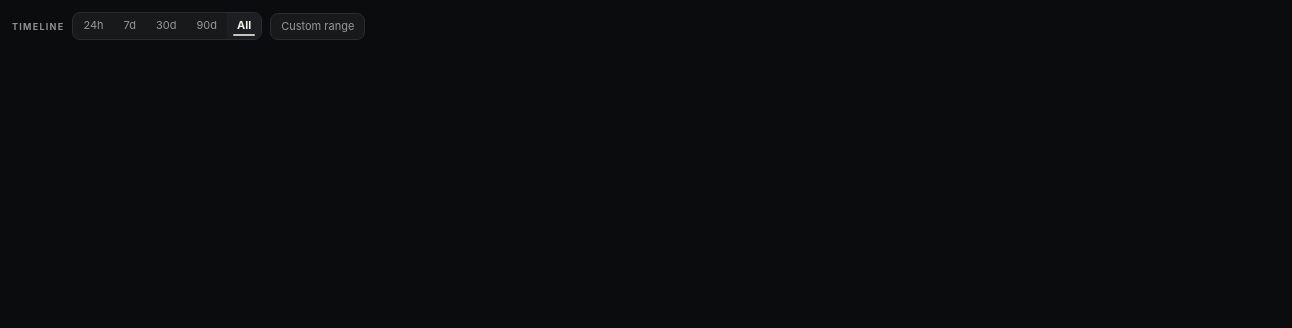
Test: the topbar control › refuses an inverted range with a reason instead of correcting it
This screenshot has width=1292, height=328.
Click the radio button labelled "7d": (130, 26) x1=114 y1=13 x2=146 y2=39
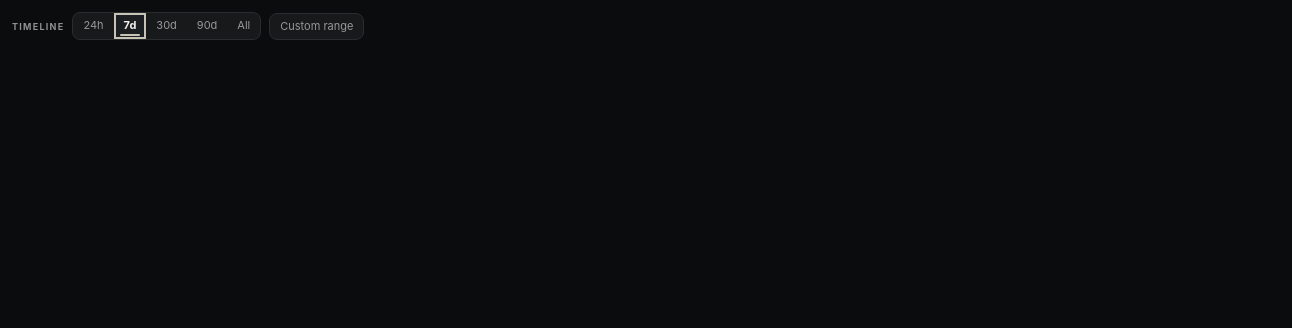
Click the button "Custom range": (317, 26) x1=269 y1=12 x2=364 y2=40
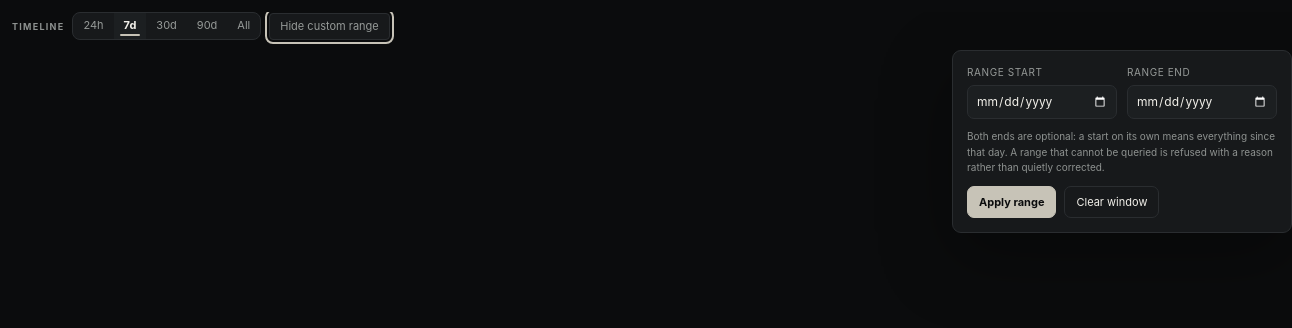
In the date field labelled "Range start": (1042, 102) x1=967 y1=85 x2=1117 y2=119, type "2026-03-19"
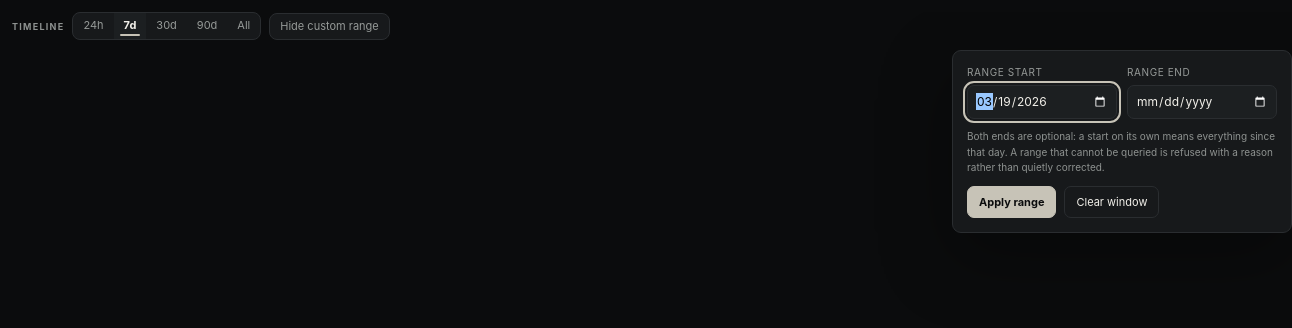
In the date field labelled "Range end": (1202, 102) x1=1127 y1=85 x2=1277 y2=119, type "2026-03-12"
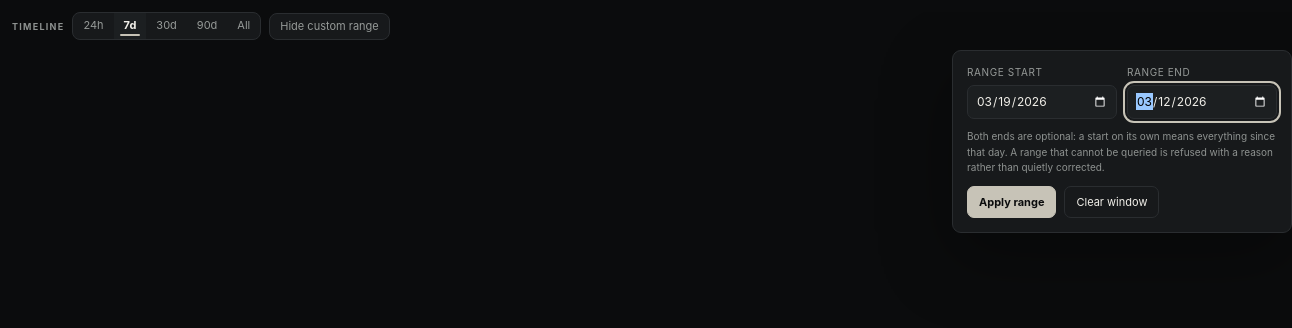
Click the button "Apply range": (1012, 202) x1=967 y1=186 x2=1056 y2=218
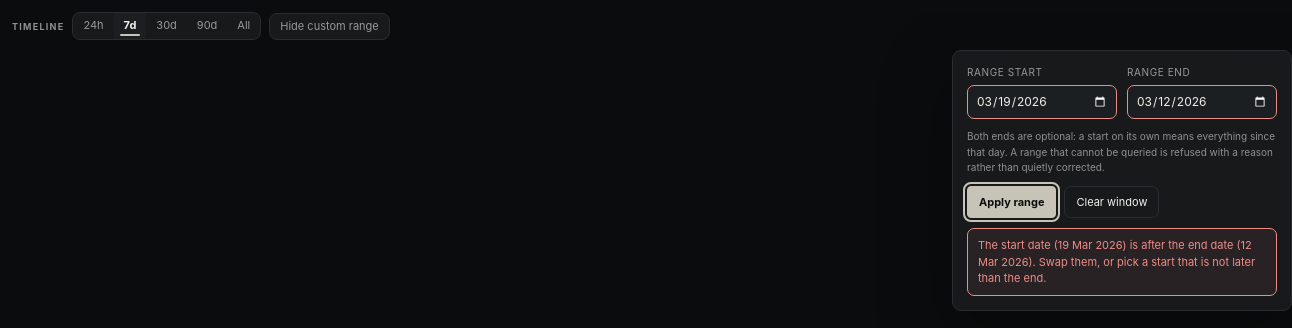
expect the message shows "after the end date": met, box x1=978 y1=238 x2=1255 y2=285
